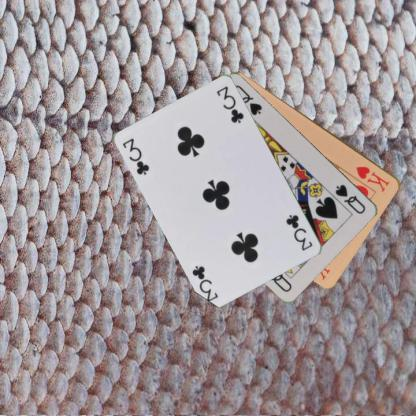3c: (120, 135, 151, 177), (283, 212, 314, 252)
Kh: (354, 163, 391, 193)
Qs: (333, 182, 367, 216)
